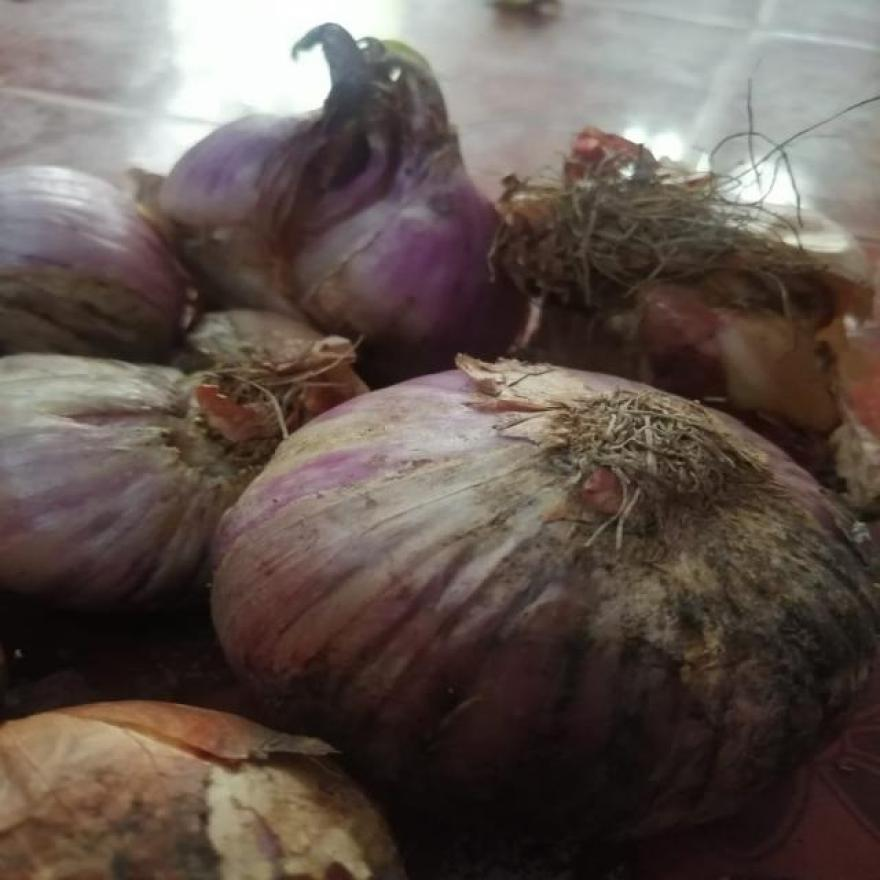Rotten: (140, 772, 396, 872), (290, 125, 406, 289), (712, 562, 874, 679)
Sprouted: (313, 21, 446, 121)
